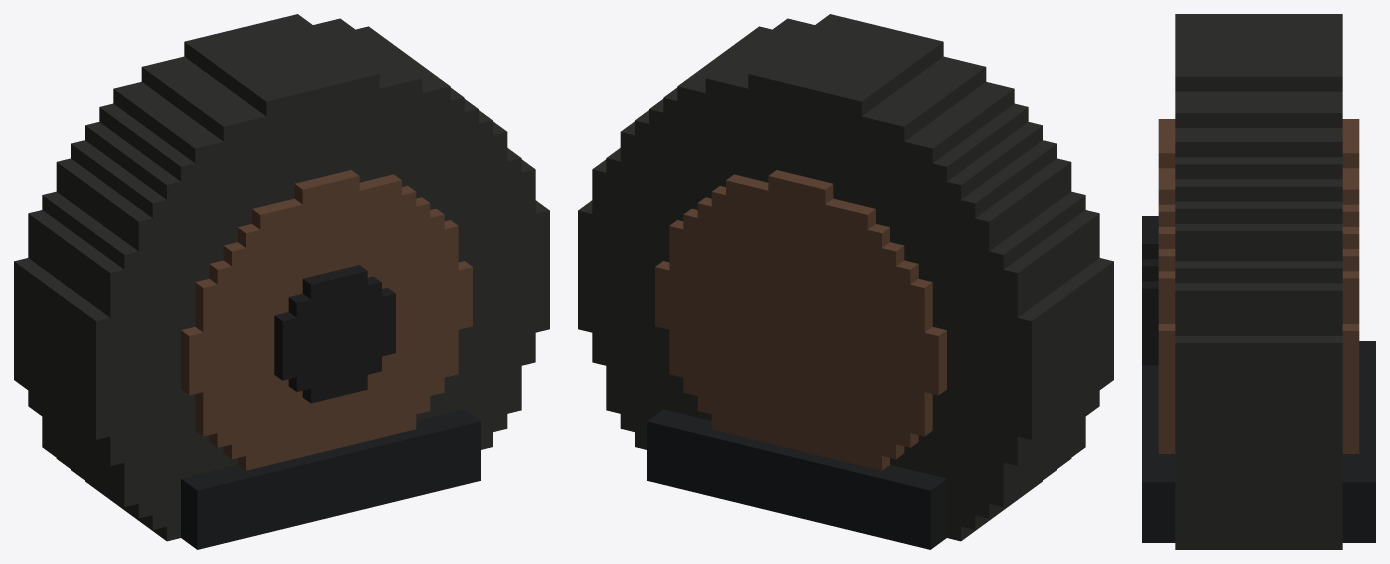
Rendered from abandoned_army_truck_wheel.glb.
The picture shows the model from 3 angles, left to right: view 1: azimuth 30°, elevation 25°; view 2: azimuth 150°, elevation 25°; view 3: azimuth 270°, elevation 25°; orthographic projection. The views are drawn at different scales.
Parts seen in each view (by area): view 1: body:compound; view 2: body:compound; view 3: body:compound.
Boxes of the visible parts, box(x1,y1,x2,y2) form: body:compound: box(14, 14, 549, 549); body:compound: box(578, 14, 1113, 549); body:compound: box(1142, 14, 1375, 549).
Size of the model in its own units: 1 by 0.875 by 0.4375.
